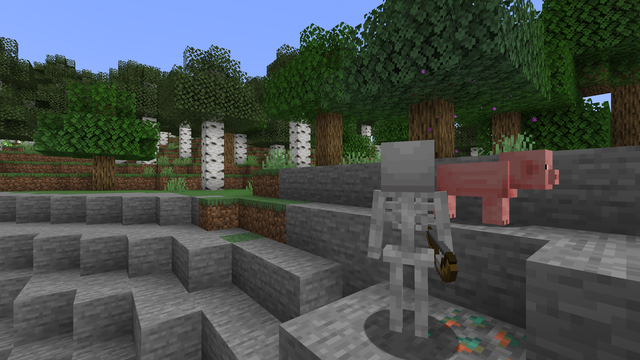cochons: (459, 158, 516, 225)
squelettes: (368, 139, 449, 358)
